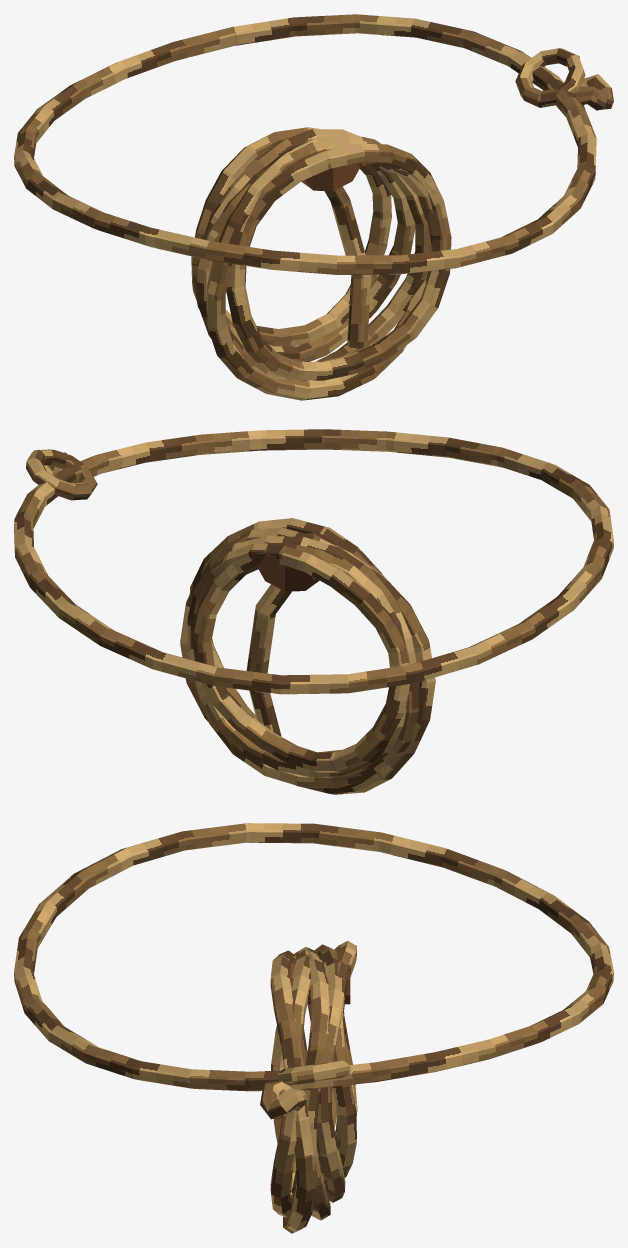
Rendered from lasso.glb.
3 renders of one model, top to bottom at view 1: azimuth 30°, elevation 25°; view 2: azimuth 150°, elevation 25°; view 3: azimuth 270°, elevation 25°, orthographic. The views are drawn at different scales.
Visible parts, largest first — view 1: coil, noose; view 2: coil, noose; view 3: noose, coil.
Boxes of the visible parts, x1,y1,x2,y2 form: coil: [191, 127, 451, 400]; noose: [14, 14, 613, 274]; coil: [180, 518, 435, 794]; noose: [14, 429, 613, 694]; noose: [14, 823, 613, 1119]; coil: [270, 941, 357, 1233].
Bounding box in the file's own units: 0.5324 × 0.2578 × 0.4959.
2 materials, 2 textured.
